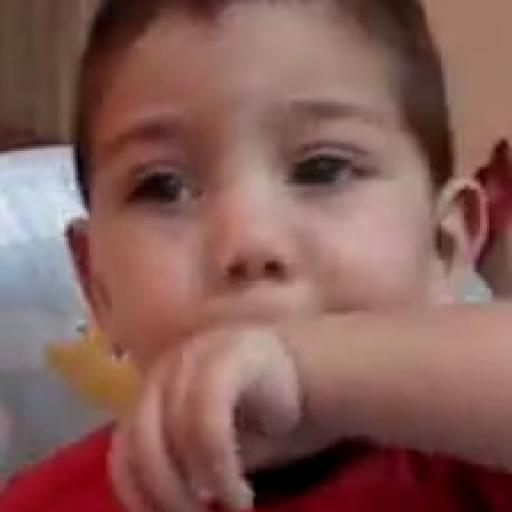Autism: (21, 30, 484, 508)
